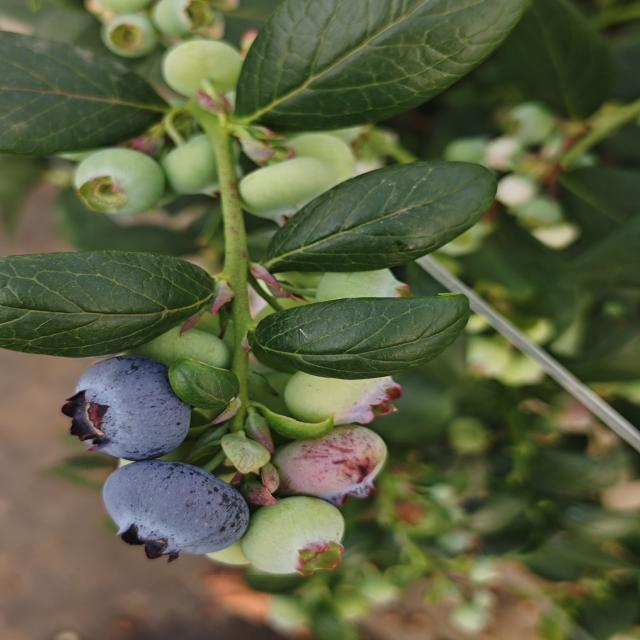ripe: (99, 458, 252, 564), (61, 353, 195, 462)
